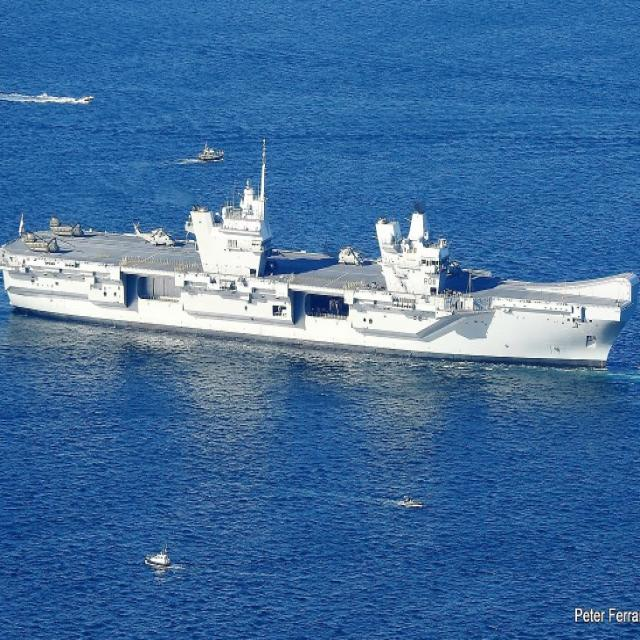Portanaves: (1, 129, 640, 382)
